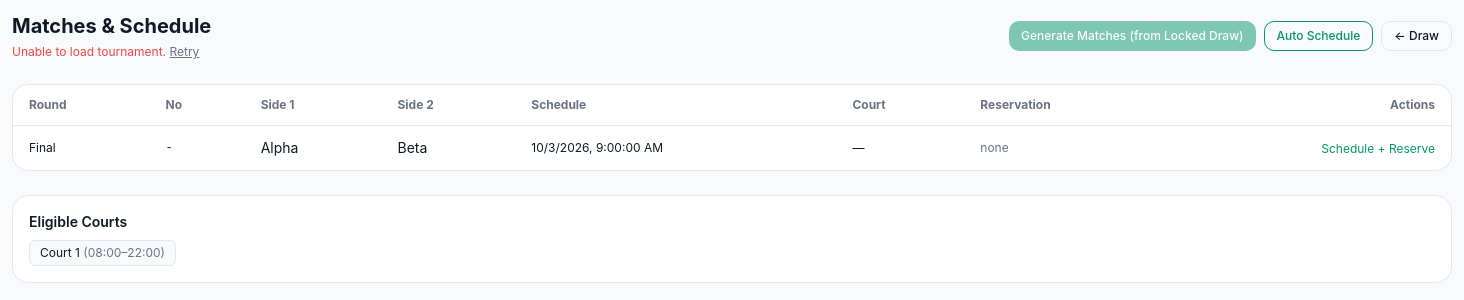
Test: TournamentSchedulePage — F-02 fetch-error handling (UX-8) › tournament context query failure shows an inline error + Retry without blocking scheduling, and Retry recovers
Expected: the text "Unable to load tournament." is shown, [12, 44, 166, 59]
Expected: the text "Final" is shown, [13, 126, 150, 170]
What coordinates should you click on to do the following:
click the button "Retry"
I would click on:
 (184, 52)
Its box is [169, 44, 199, 60].
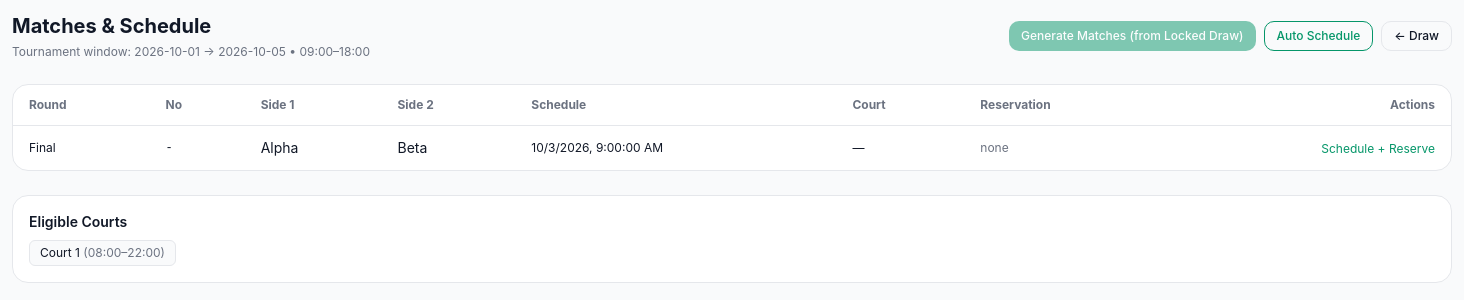
Expected: the text "Tournament window: 2026-10-01 → 2026-10-05 • 09:00–18:00" is shown, [12, 44, 370, 60]
Expected: the text "Unable to load tournament." is gone
